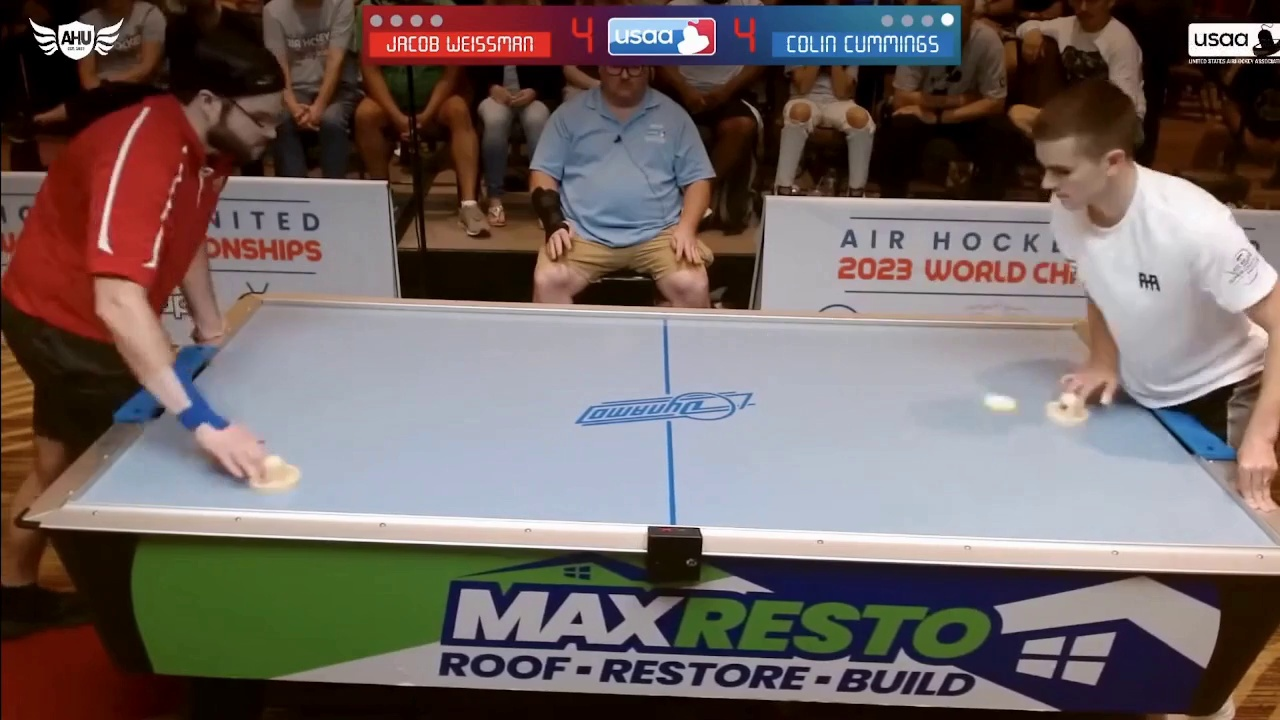player: (245, 456, 302, 492), (1045, 389, 1091, 426)
puck: (985, 388, 1018, 414)
table: (64, 297, 1280, 549)
